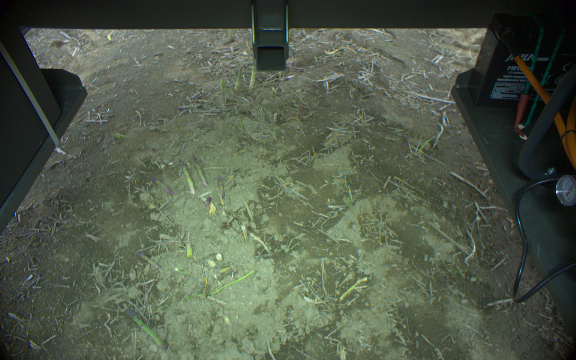aspa: (123, 306, 166, 349), (148, 173, 176, 198), (134, 247, 162, 271), (178, 157, 195, 196), (192, 154, 208, 187), (248, 53, 256, 90), (234, 63, 244, 91), (215, 173, 224, 200), (227, 29, 234, 42)
